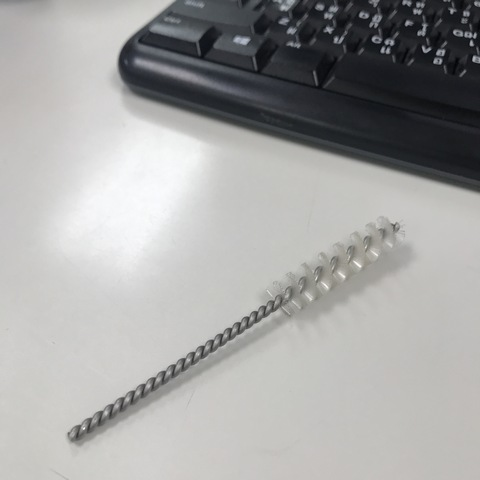Twist Brush-B: (62, 214, 406, 445)
